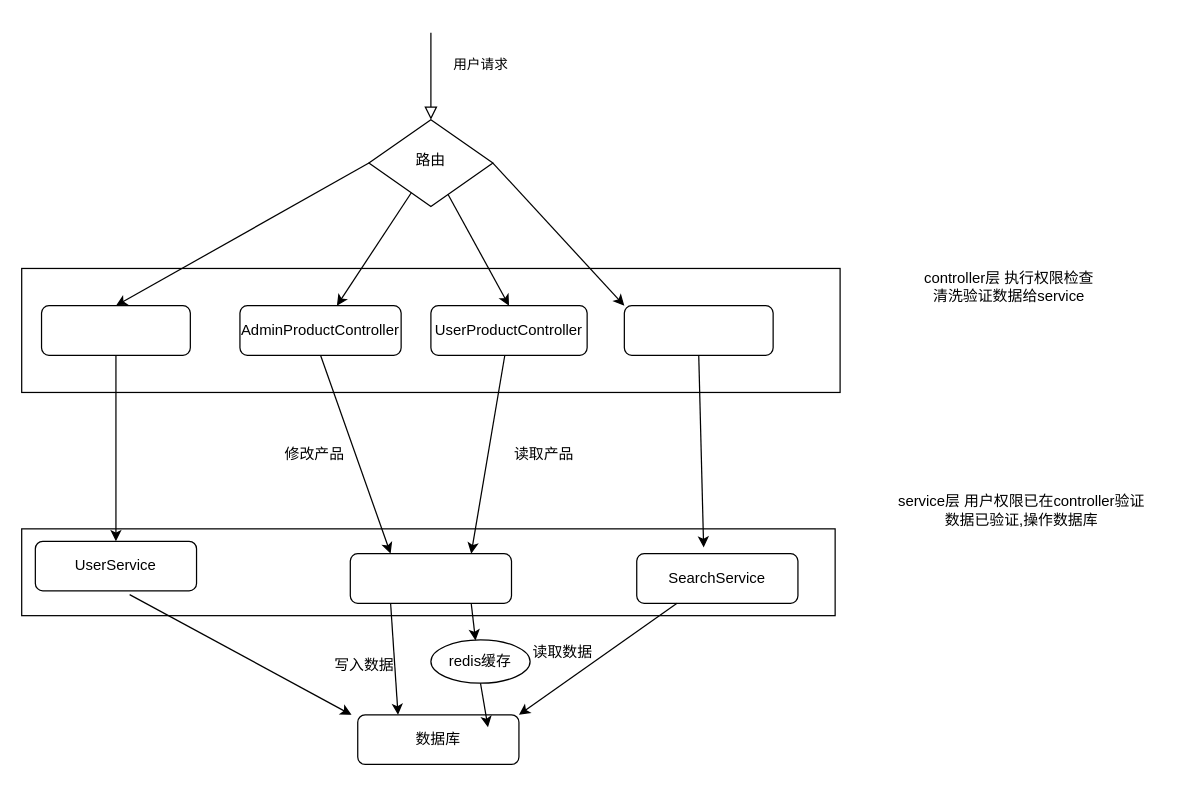
Some shapes in this 1179 by 786 pixel diagram are drawn without their labels. Here are the shapes that lost their labels. From the top down, the box of each, then its label:
(40, 304, 190, 355): AdminUserController
(623, 304, 773, 355): SearchController
(349, 552, 512, 603): ProductService
